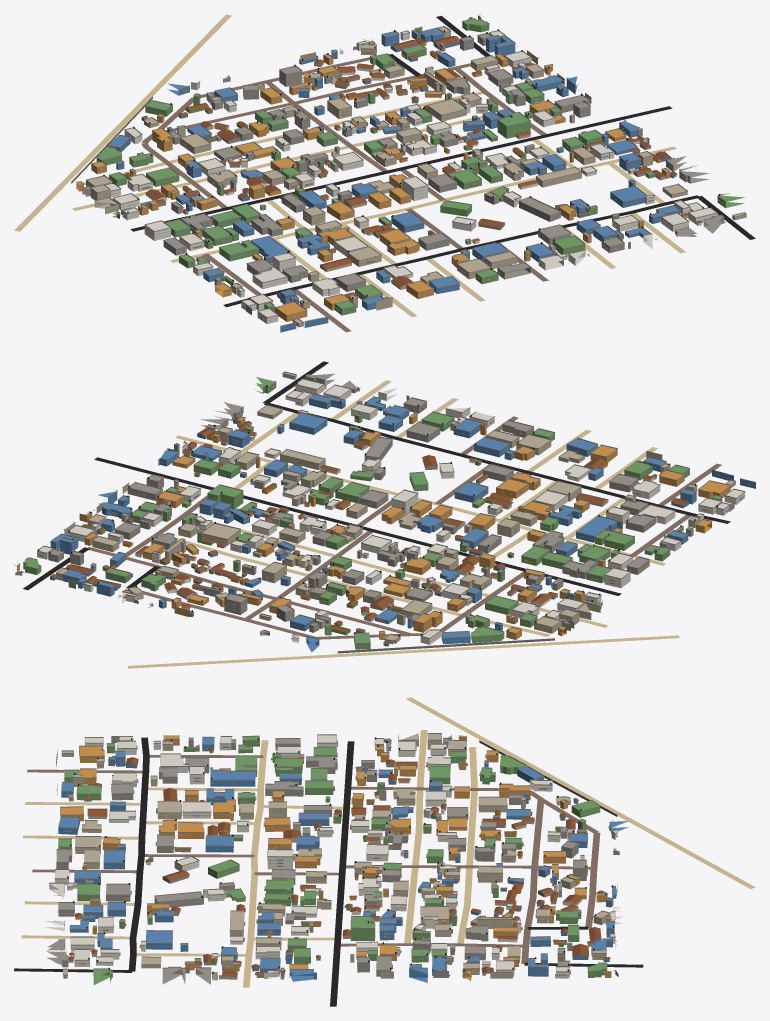
The model's file is zone_t2_1.glb.
3 views of the same model, one above another, from view 1: azimuth 30°, elevation 25°; view 2: azimuth 150°, elevation 25°; view 3: azimuth 270°, elevation 25° (orthographic). The views are drawn at different scales.
Visible parts, largest first — view 1: parapet_t2_1, bld_peinture_blanc_t2_1-col, bld_peinture_bleu_t2_1-col, bld_peinture_vert_t2_1-col, bld_beton_t2_1-col, bld_peinture_ecaillee_t2_1-col, bld_peinture_ocre_t2_1-col, toit_tole_t2_1, route_residential_terre_t2_1, route_residential_paves_t2_1, bandeau_t2_1, route_residential_bitume_t2_1 (+3 smaller); view 2: parapet_t2_1, bld_peinture_bleu_t2_1-col, bld_peinture_blanc_t2_1-col, bld_beton_t2_1-col, bld_peinture_vert_t2_1-col, bld_peinture_ecaillee_t2_1-col, bld_peinture_ocre_t2_1-col, toit_tole_t2_1, route_residential_terre_t2_1, route_residential_paves_t2_1, bandeau_t2_1, route_residential_bitume_t2_1 (+4 smaller); view 3: parapet_t2_1, bld_peinture_blanc_t2_1-col, bld_peinture_bleu_t2_1-col, bld_beton_t2_1-col, bld_peinture_vert_t2_1-col, bld_peinture_ecaillee_t2_1-col, bld_peinture_ocre_t2_1-col, route_residential_terre_t2_1, toit_tole_t2_1, route_residential_paves_t2_1, route_residential_bitume_t2_1, bandeau_t2_1 (+3 smaller).
Boxes of the visible parts, box(x1,y1,x2,y2) form: parapet_t2_1: box(76, 14, 746, 326); bld_peinture_blanc_t2_1-col: box(106, 31, 717, 323); bld_peinture_bleu_t2_1-col: box(109, 28, 679, 332); bld_peinture_vert_t2_1-col: box(96, 19, 744, 315); bld_beton_t2_1-col: box(82, 17, 724, 314); bld_peinture_ecaillee_t2_1-col: box(86, 27, 746, 327); bld_peinture_ocre_t2_1-col: box(76, 16, 670, 321); toit_tole_t2_1: box(124, 27, 702, 297); route_residential_terre_t2_1: box(72, 91, 685, 316); route_residential_paves_t2_1: box(141, 53, 548, 332); bandeau_t2_1: box(78, 25, 736, 329); route_residential_bitume_t2_1: box(130, 15, 755, 307); parapet_t2_1: box(14, 371, 755, 643); bld_peinture_bleu_t2_1-col: box(50, 395, 755, 652); bld_peinture_blanc_t2_1-col: box(37, 379, 744, 644); bld_beton_t2_1-col: box(15, 373, 734, 635); bld_peinture_vert_t2_1-col: box(23, 377, 722, 649); bld_peinture_ecaillee_t2_1-col: box(56, 372, 735, 644); bld_peinture_ocre_t2_1-col: box(17, 402, 730, 639); toit_tole_t2_1: box(50, 385, 689, 643); route_residential_terre_t2_1: box(159, 380, 665, 636); route_residential_paves_t2_1: box(88, 416, 721, 639); bandeau_t2_1: box(19, 379, 755, 646); route_residential_bitume_t2_1: box(23, 361, 730, 595); parapet_t2_1: box(49, 733, 620, 976); bld_peinture_blanc_t2_1-col: box(45, 735, 623, 978); bld_peinture_bleu_t2_1-col: box(56, 737, 628, 982); bld_beton_t2_1-col: box(46, 735, 619, 984); bld_peinture_vert_t2_1-col: box(58, 736, 606, 984); bld_peinture_ecaillee_t2_1-col: box(57, 733, 610, 979); bld_peinture_ocre_t2_1-col: box(60, 735, 617, 980); route_residential_terre_t2_1: box(21, 730, 477, 987); toit_tole_t2_1: box(68, 747, 610, 976); route_residential_paves_t2_1: box(27, 755, 600, 964); route_residential_bitume_t2_1: box(14, 737, 643, 1006); bandeau_t2_1: box(49, 739, 616, 979).
Size of the model in its own units: 653 by 14 by 662.
